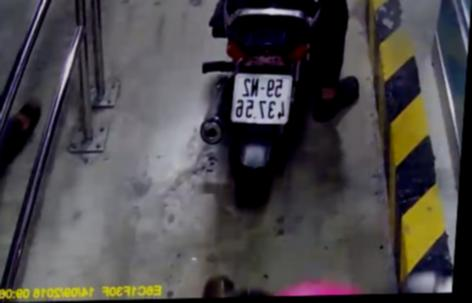License_Plate: (228, 69, 300, 130)
